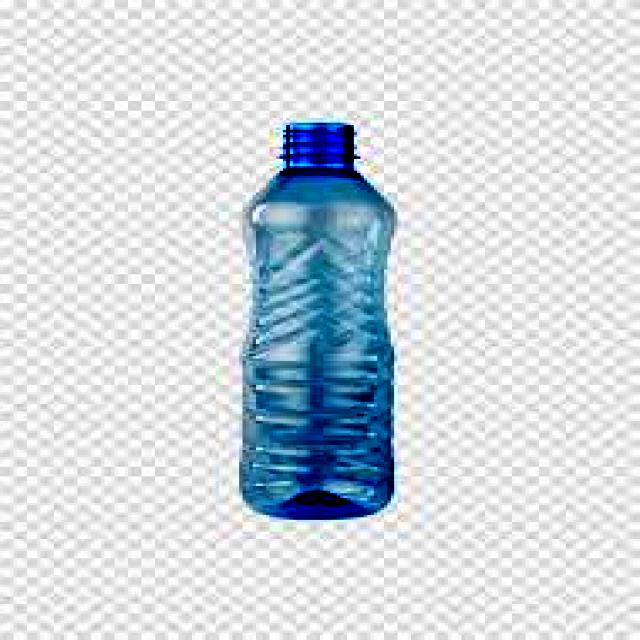Plastic: (234, 119, 398, 522)
